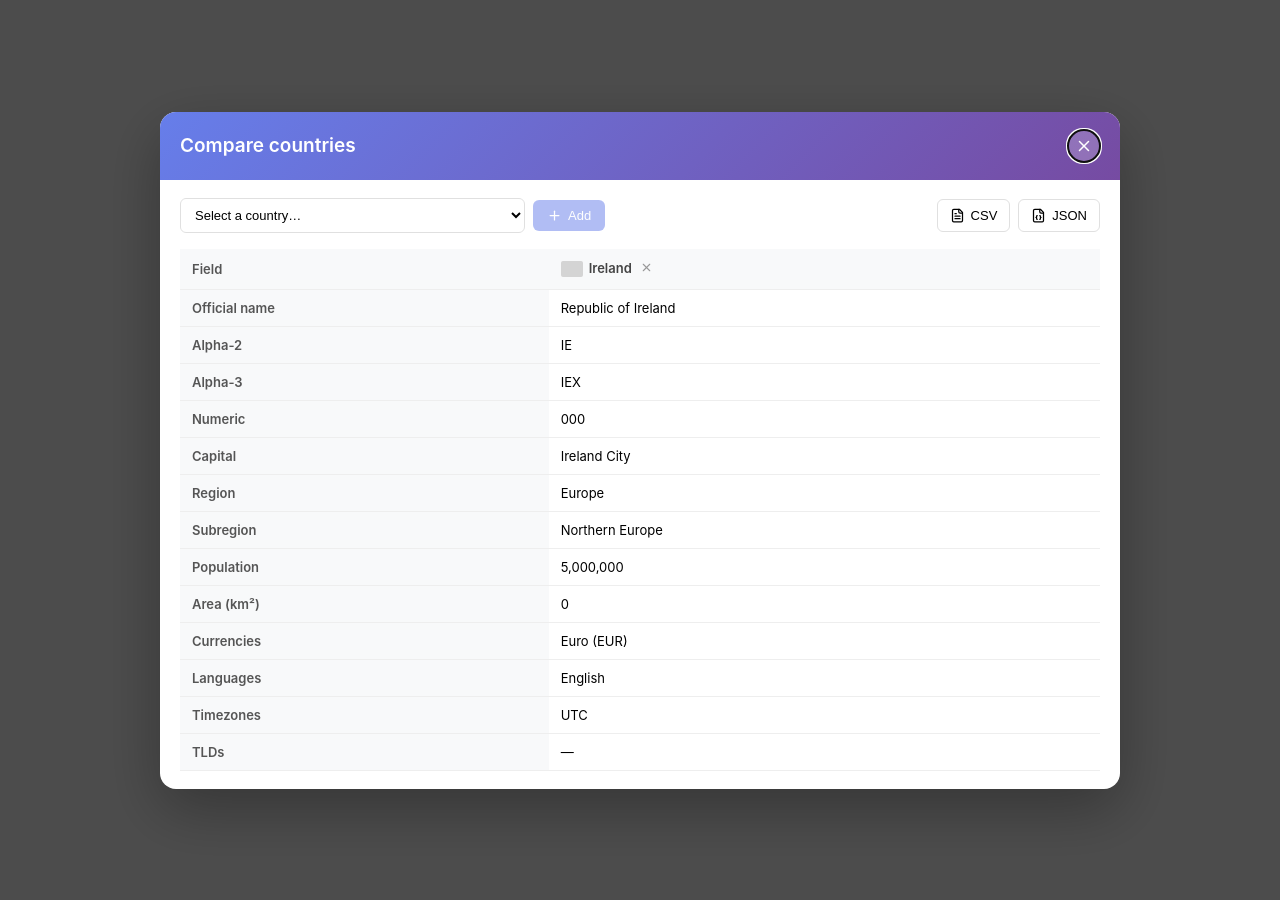
Test: CountryComparison › removes a country from the comparison
Check: the text "Republic of Ireland" is shown, box [549, 289, 1100, 326]
Click the button named "Remove Ireland from comparison" at (646, 268), box [638, 258, 655, 278]
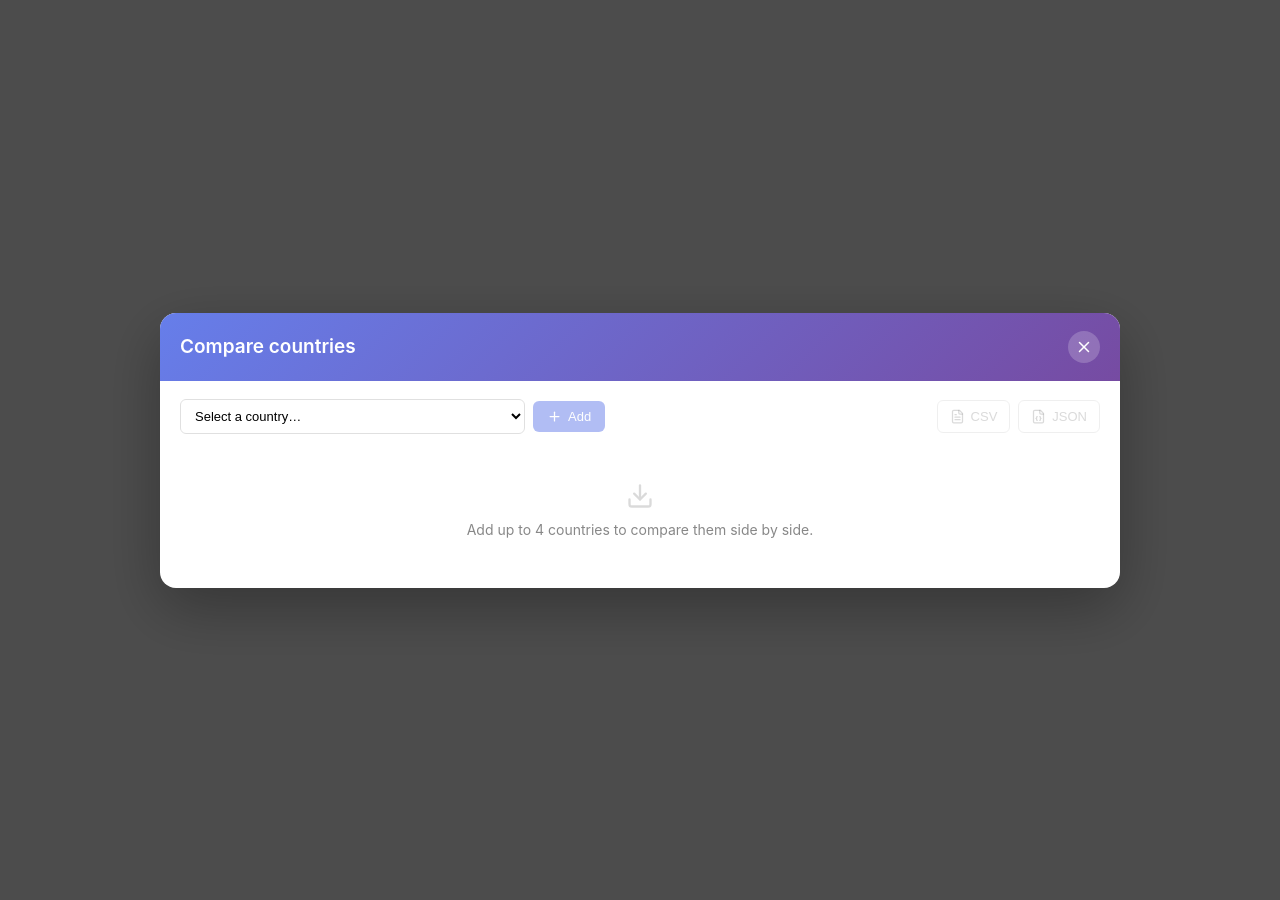
Check: the text "Add up to 4 countries to compare them side by side." is shown, box [467, 520, 813, 538]
